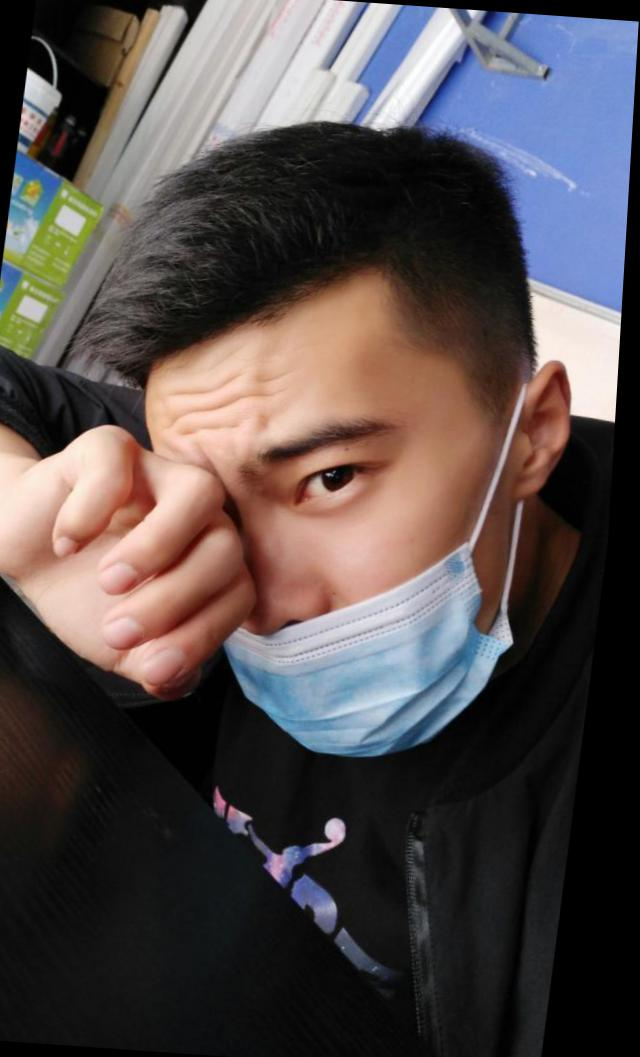WRONG: (105, 372, 521, 759)
